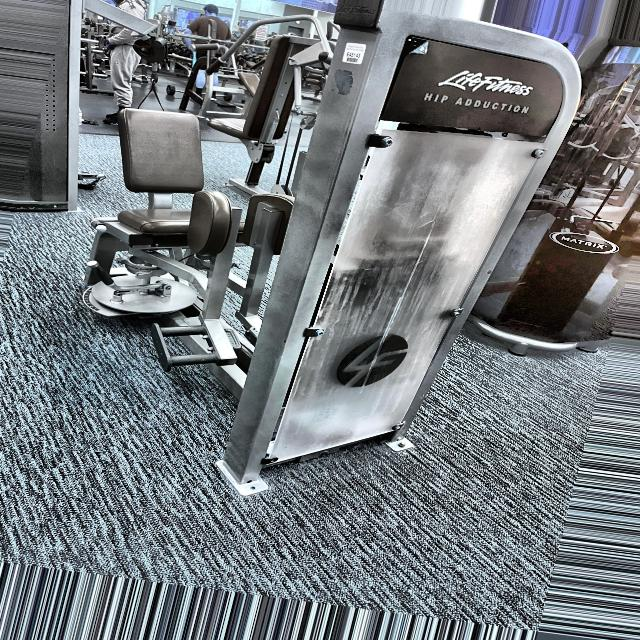hip_adduction_machine: (89, 95, 278, 399), (420, 84, 541, 139)
